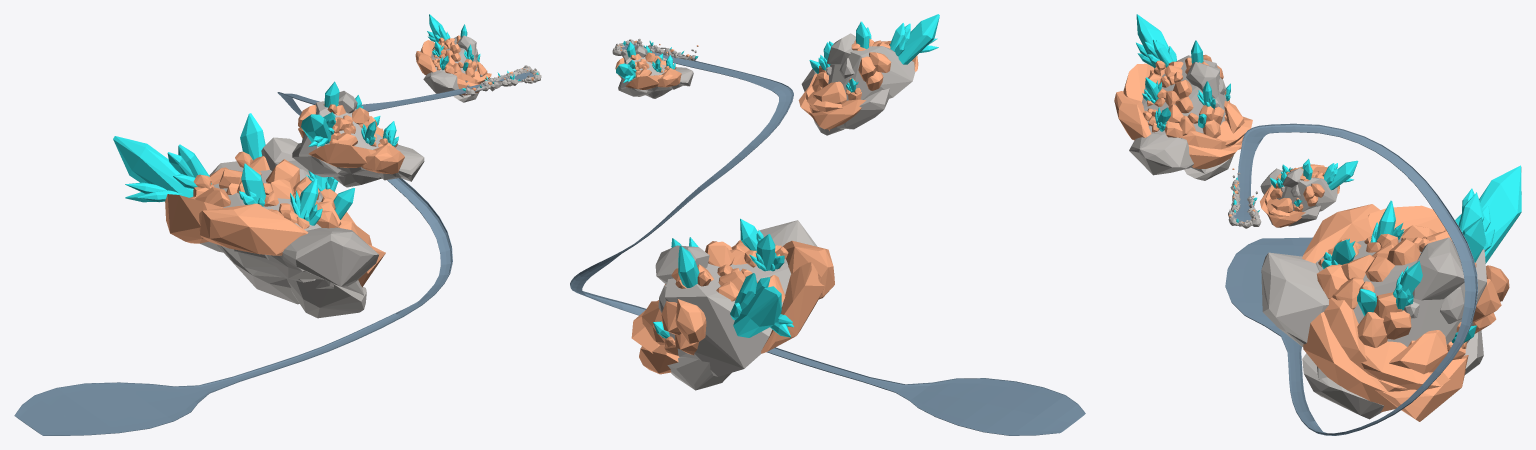
File: track1_clean.fbx
3 renders of one model, left to right at view 1: azimuth 30°, elevation 25°; view 2: azimuth 150°, elevation 25°; view 3: azimuth 270°, elevation 25°, orthographic. The views are drawn at different scales.
Visible parts, largest first — view 1: deco, Pista; view 2: deco, Pista; view 3: deco, Pista.
Boxes of the visible parts, bbox=[...] form: deco: bbox=[113, 14, 541, 318]; Pista: bbox=[14, 72, 533, 435]; deco: bbox=[612, 14, 939, 390]; Pista: bbox=[570, 44, 1085, 435]; deco: bbox=[1114, 14, 1521, 421]; Pista: bbox=[1225, 123, 1477, 435].
Bounding box in the file's own units: 28196 × 17701 × 19151.
